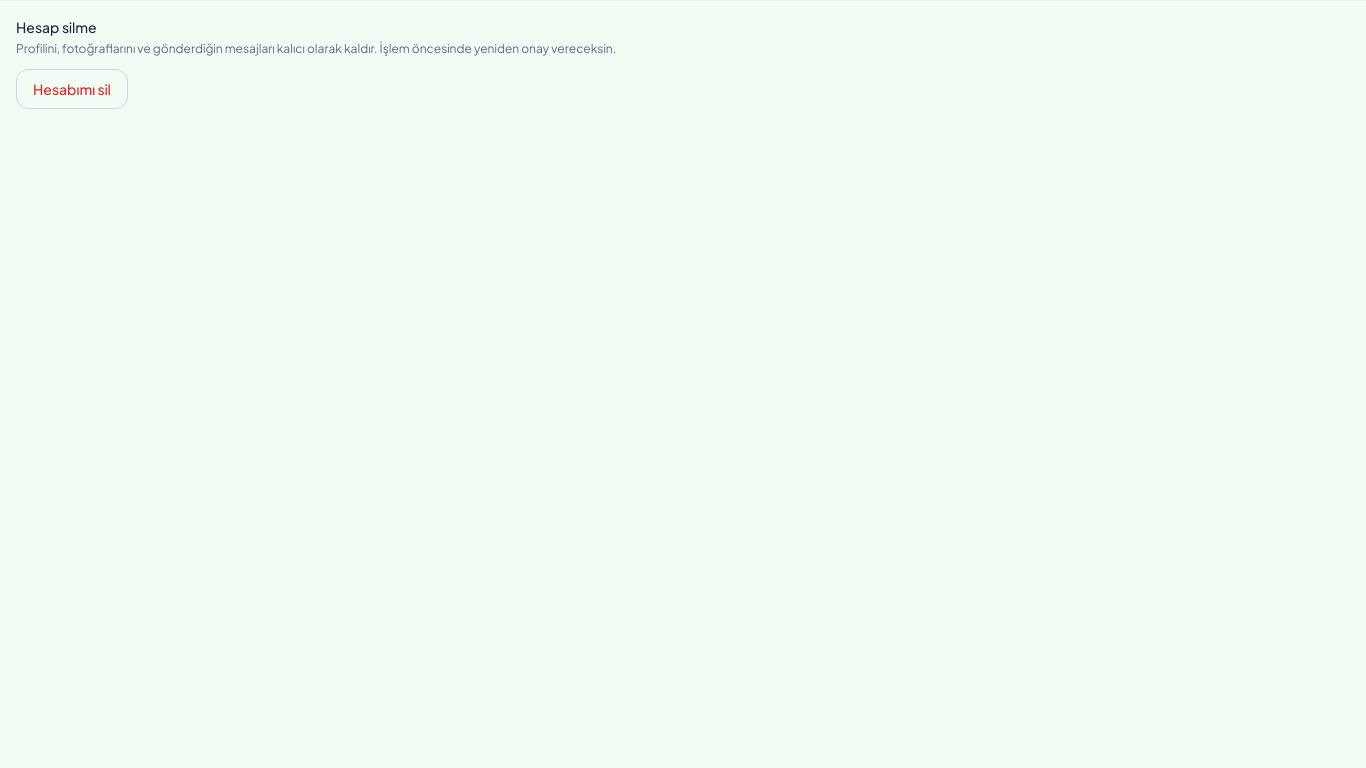
Test: asks for sign-in again without claiming that deletion completed
Click the button "Hesabımı sil" at (72, 89), box top-left (16, 69), bottom-right (128, 109)
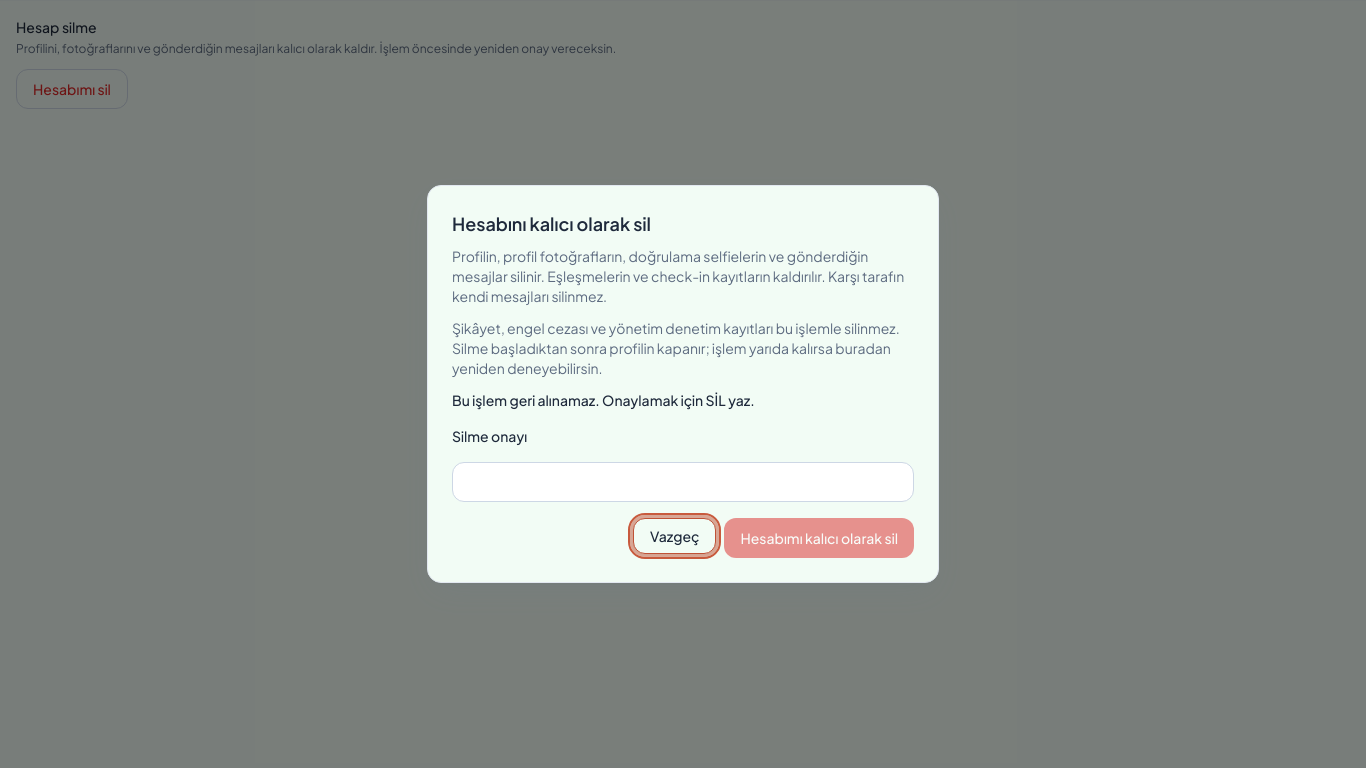
Check: the dialog is shown, box top-left (427, 185), bottom-right (939, 583)
Type "SİL" into the field labelled "Silme onayı" at (683, 482), box top-left (452, 462), bottom-right (914, 502)
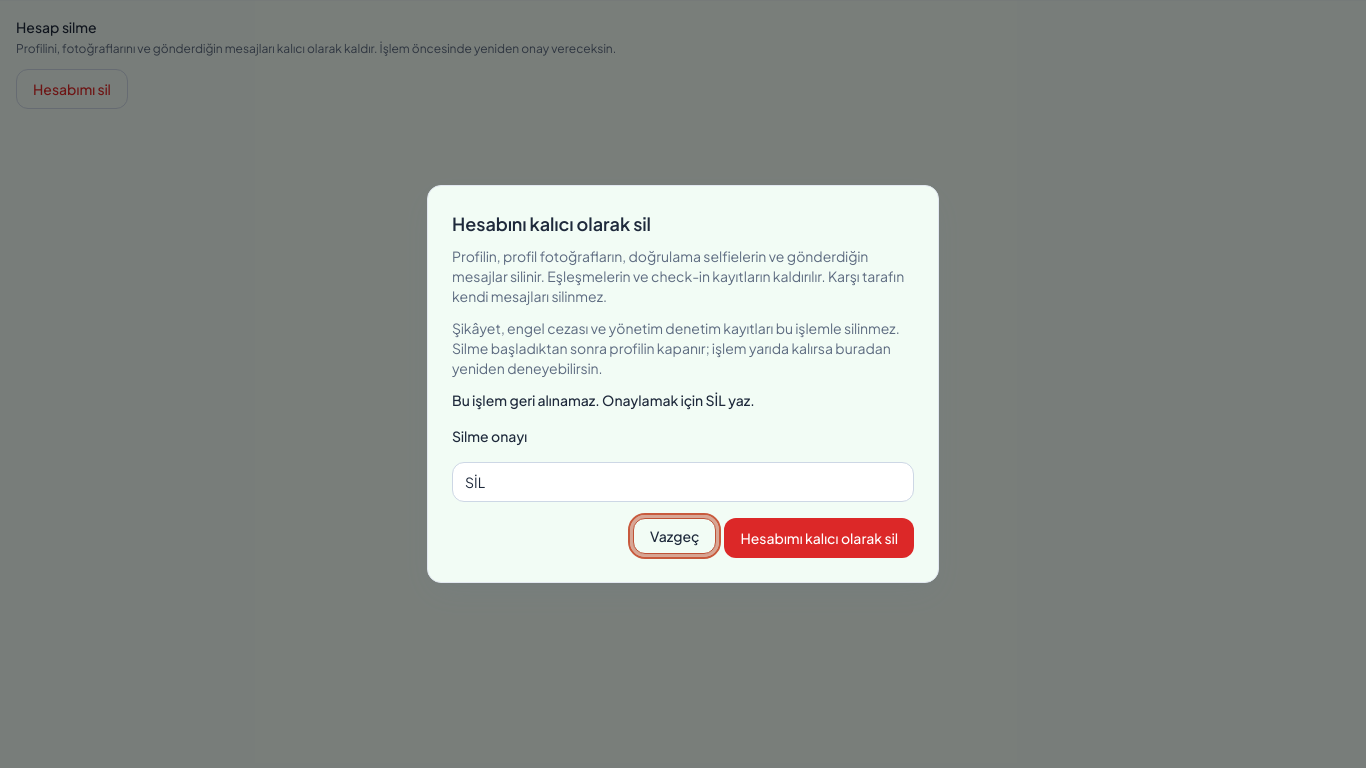
Click the button "Hesabımı kalıcı olarak sil" at (819, 538), box top-left (724, 518), bottom-right (914, 558)
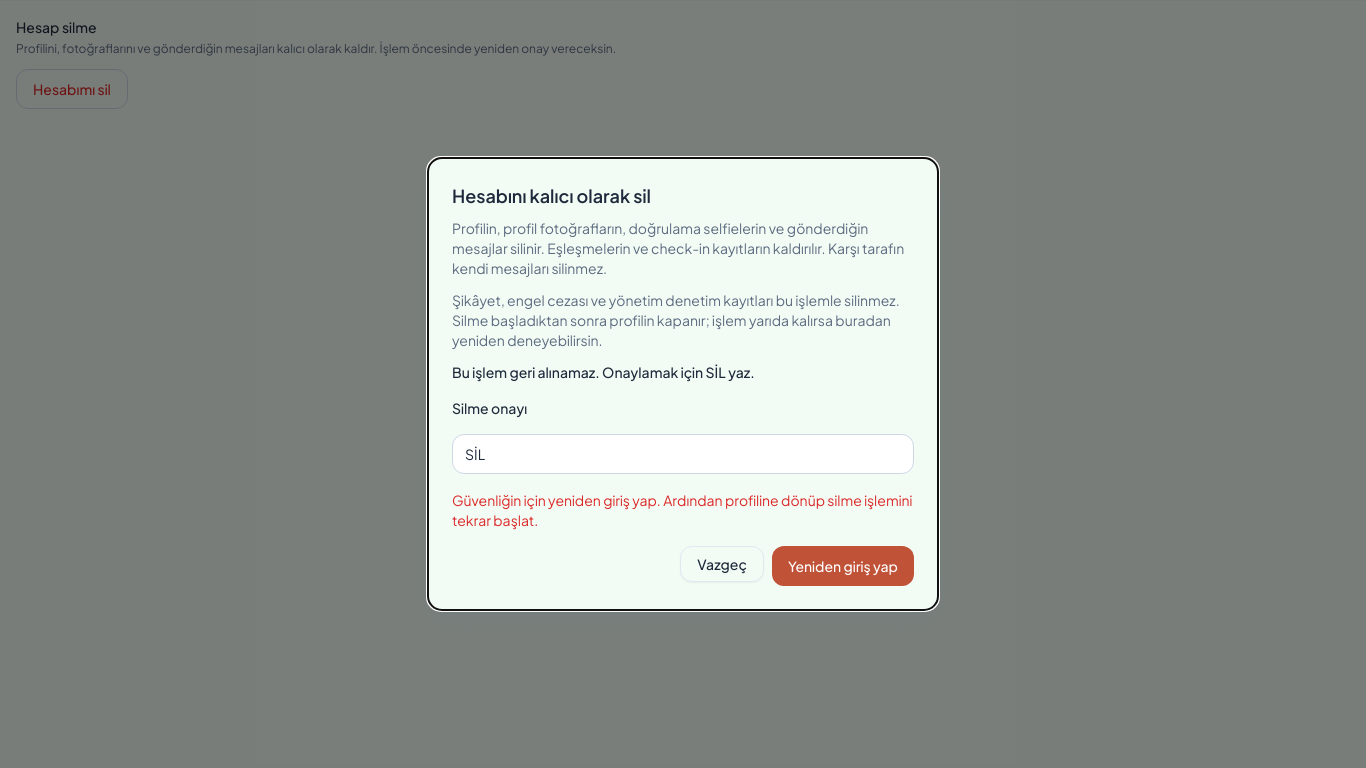
Check: the button "Yeniden giriş yap" is shown, box top-left (772, 546), bottom-right (914, 586)
